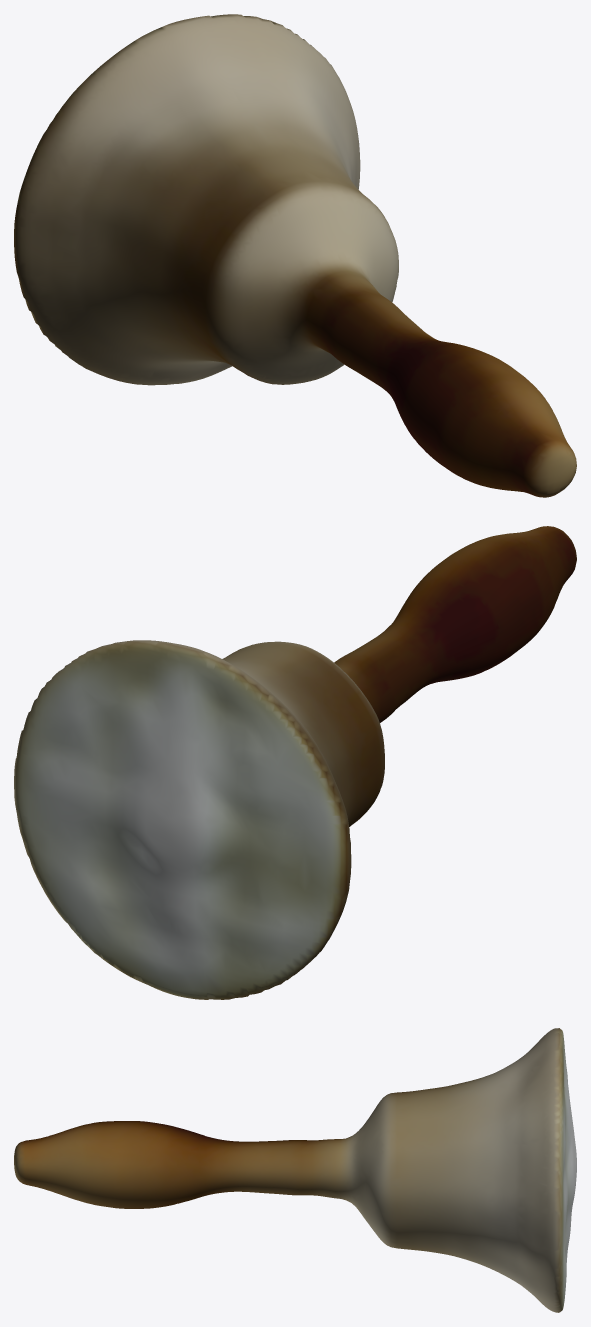
Rendered from bell.glb.
3 views of the same model, one above another, from view 1: azimuth 30°, elevation 25°; view 2: azimuth 150°, elevation 25°; view 3: azimuth 270°, elevation 25° (orthographic). The views are drawn at different scales.
Bounding box in the file's own units: 0.5054 × 0.5059 × 0.9998.
